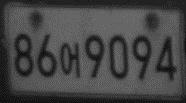0: (108, 34, 129, 79)
4: (155, 36, 178, 82)
6: (36, 33, 58, 77)
8: (13, 32, 34, 79)
9: (130, 34, 152, 80), (84, 34, 106, 77)
어: (59, 41, 81, 79)
